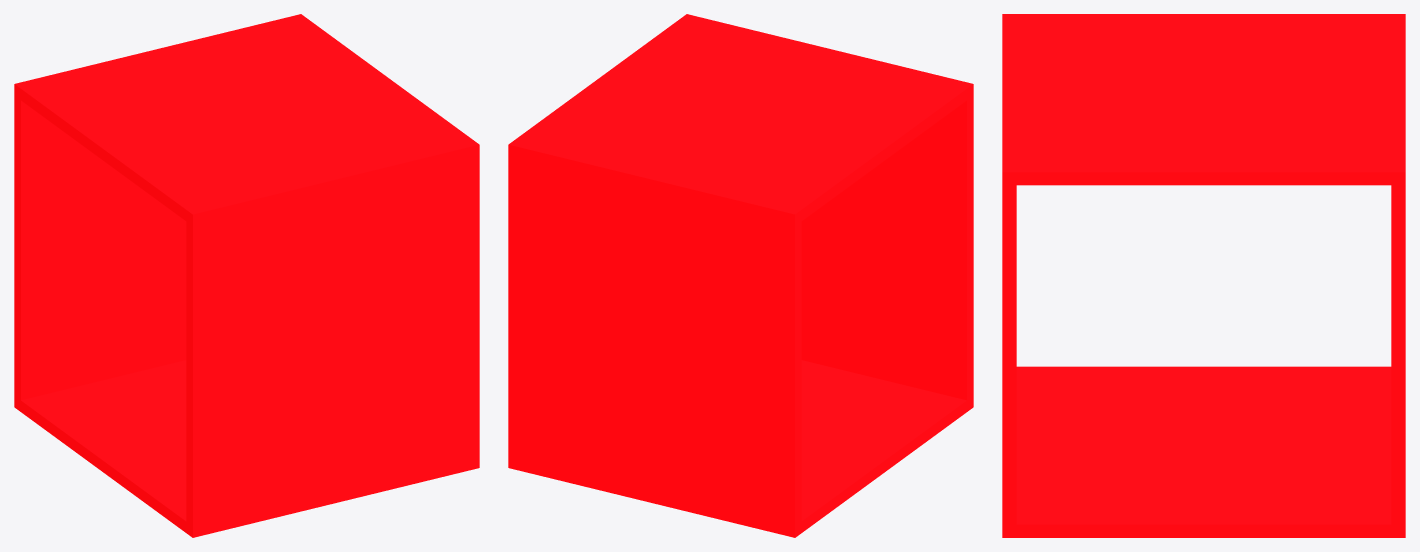
Rendered from redplane 1.fbx.
The picture shows the model from 3 angles, left to right: view 1: azimuth 30°, elevation 25°; view 2: azimuth 150°, elevation 25°; view 3: azimuth 270°, elevation 25°; orthographic projection. The views are drawn at different scales.
Visible parts, largest first — view 1: Cube; view 2: Cube; view 3: Cube.
Boxes of the visible parts, x1,y1,x2,y2 form: Cube: (14, 14, 479, 537); Cube: (508, 14, 973, 537); Cube: (1002, 14, 1405, 537).
Bounding box in the file's own units: 2 × 2.16 × 2.16.
